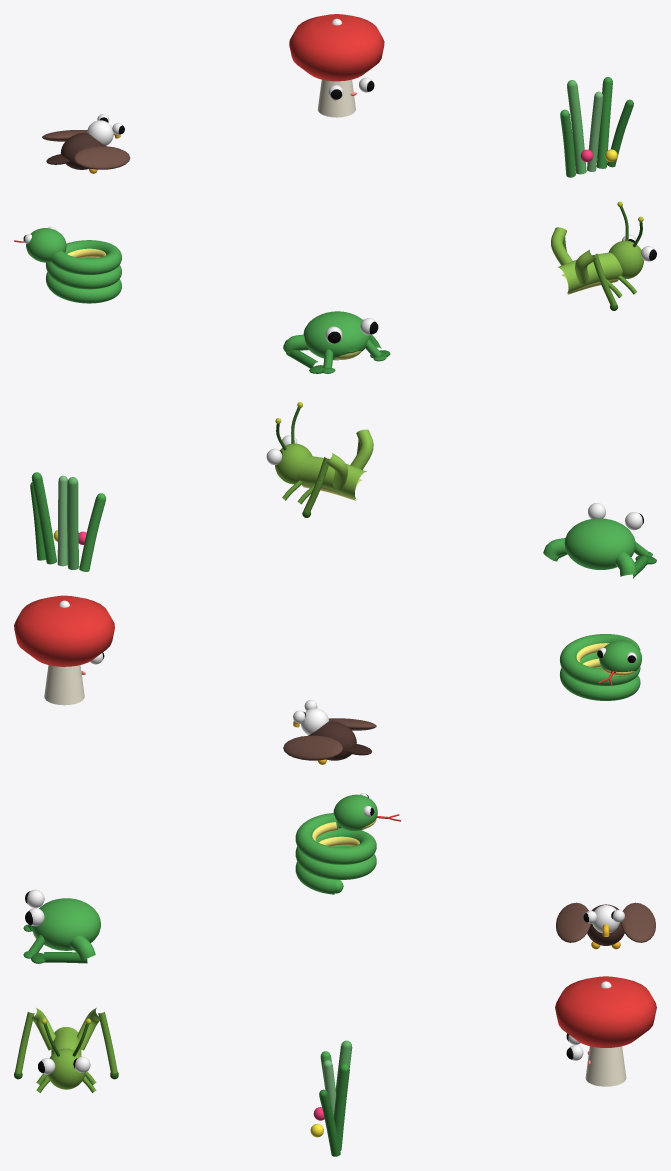
The model's file is eco_msgn6w37.glb.
The picture shows the model from 3 angles, top to bottom: view 1: azimuth 30°, elevation 25°; view 2: azimuth 150°, elevation 25°; view 3: azimuth 270°, elevation 25°; orthographic projection. The views are drawn at different scales.
Visible parts, largest first — view 1: ecosystem_preset_group, object 14; view 2: ecosystem_preset_group, object 14; view 3: ecosystem_preset_group, object 14.
Boxes of the visible parts, <box> form: ecosystem_preset_group: <box>42,14,643,373</box>; object 14: <box>26,228,66,262</box>; ecosystem_preset_group: <box>14,402,656,764</box>; object 14: <box>599,641,641,676</box>; ecosystem_preset_group: <box>14,813,656,1156</box>; object 14: <box>333,794,377,830</box>.
Size of the model in its own units: 5.13 by 0.75 by 4.54.
